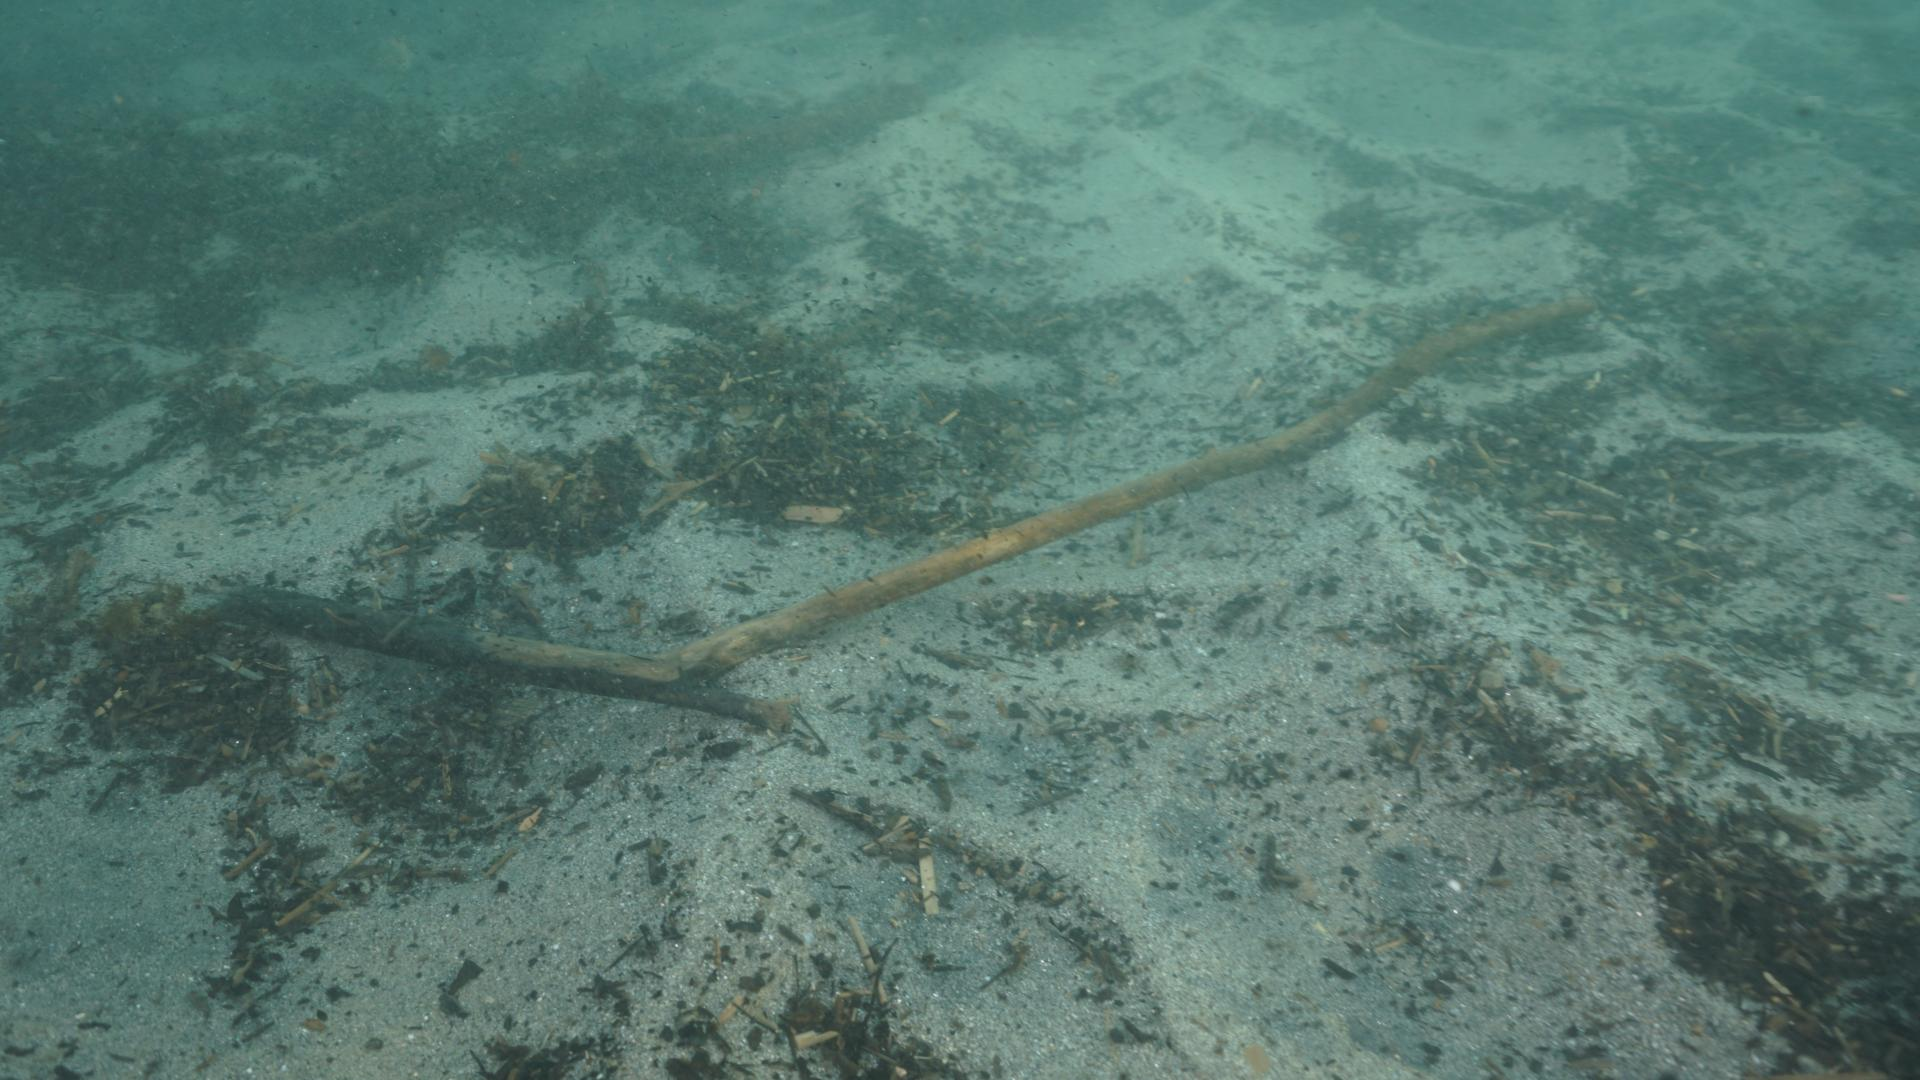wood: (227, 280, 1631, 733)
